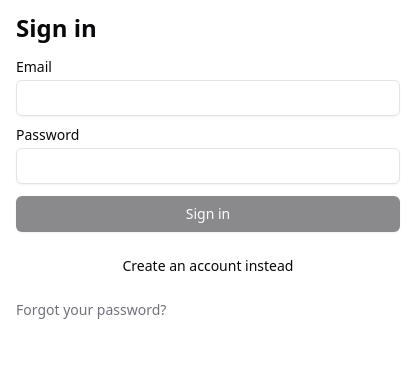
Test: SignInPage › shows the server error and stays on the page
Type "a@example.com" into the field labelled "Email" at (208,98), box [16, 80, 400, 116]
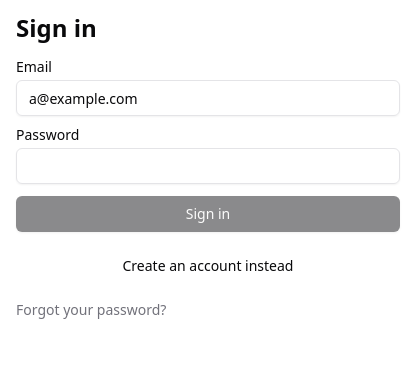
Type "wrong-password" into the password field labelled "Password" at (208,166), box [16, 148, 400, 184]
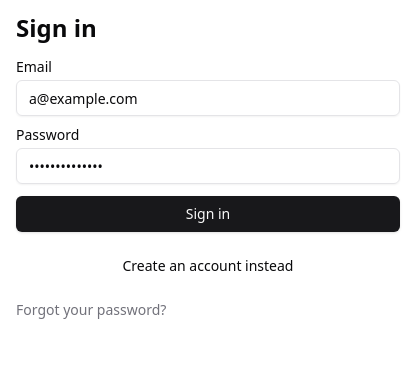
Click the button "Sign in" at (208,214), box [16, 196, 400, 232]
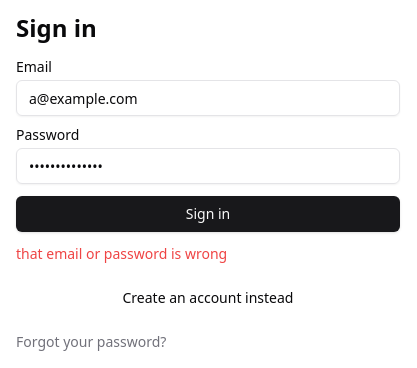
Expected: the message reads "that email or password is wrong", [16, 244, 227, 263]
